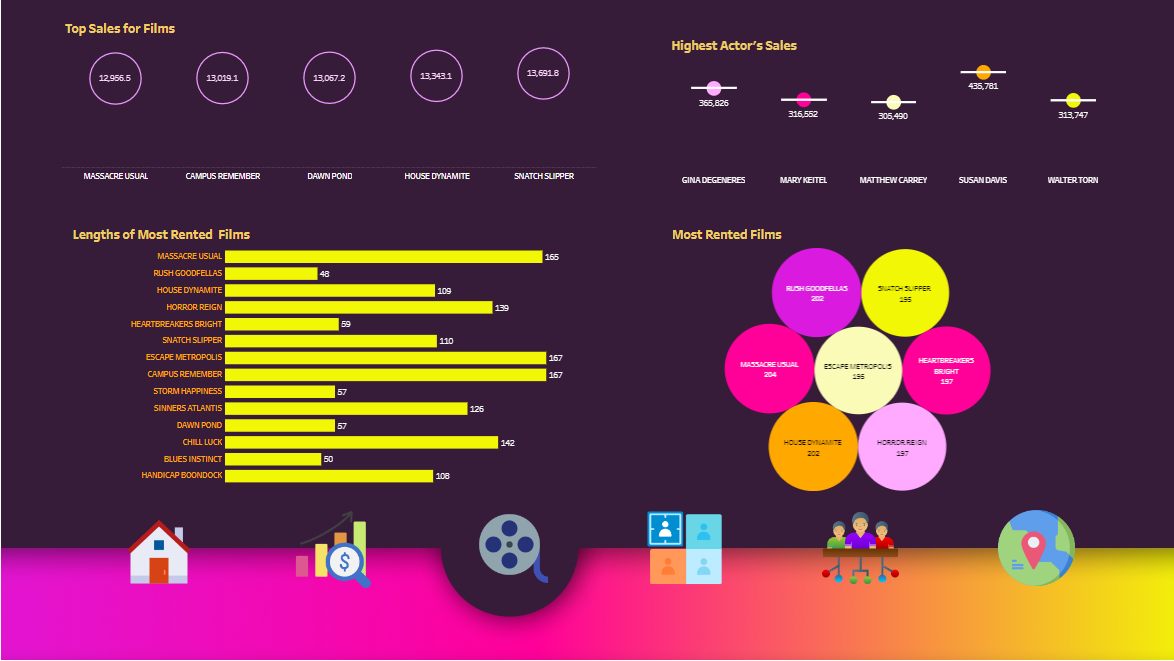

What the dashboard file says about the page in this screenshot:
{"tool":"tableau","page":{"name":"Film","canvas":[1920,1080],"ordinal":2},"visuals":[{"type":"image","param":"D:/ITI intensive code camp/Graduation Project/Sakila/Tableau/navigation bar 3 sh","box":[8,8,1904,1064]},{"type":"dashboard-object","box":[734,823,185,123]},{"type":"dashboard-object","box":[1017,828,180,123]},{"type":"dashboard-object","box":[1298,828,180,123]},{"type":"dashboard-object","box":[1579,828,180,123]},{"type":"dashboard-object","box":[455,830,180,123]},{"type":"dashboard-object","box":[178,834,175,122]}]}

Visuals, with their boxes in screenshot pixels (x1, y1, x2, y2), scaled from the page's 1920x1080 canvas onto the 1174x661 screenshot:
image: 5,5,1169,656
dashboard-object: 449,504,562,579
dashboard-object: 622,507,732,582
dashboard-object: 794,507,904,582
dashboard-object: 965,507,1076,582
dashboard-object: 278,508,388,583
dashboard-object: 109,510,216,585
